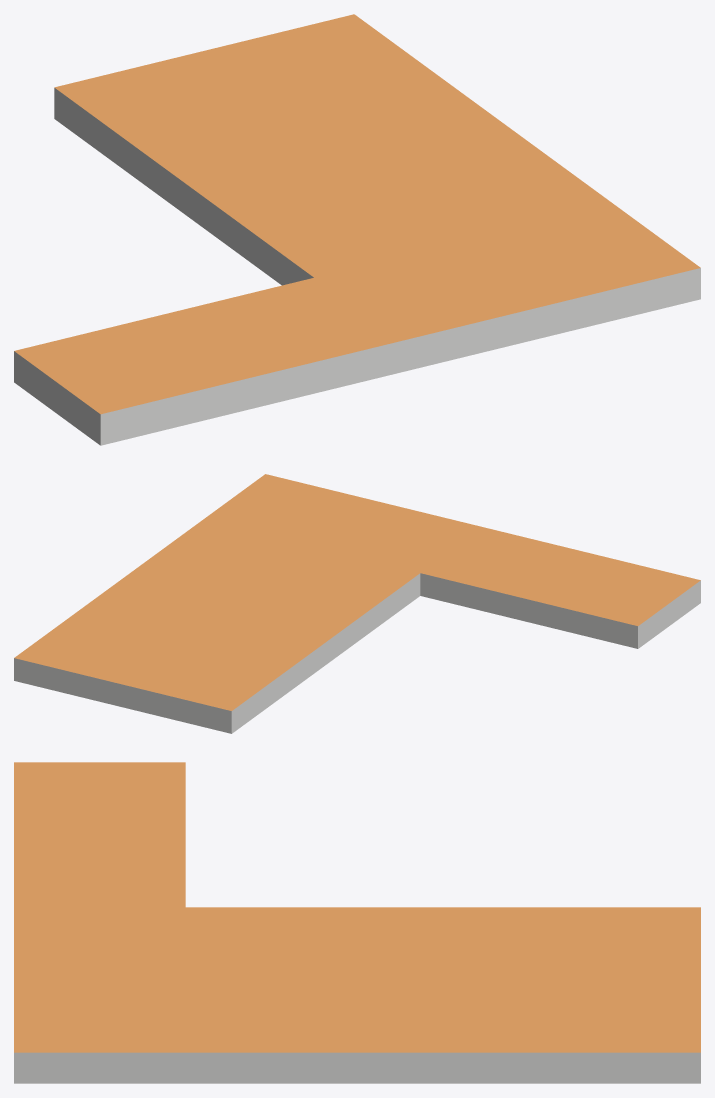
The model's file is laje_abertura_u.glb.
The picture shows the model from 3 angles, top to bottom: view 1: azimuth 30°, elevation 25°; view 2: azimuth 150°, elevation 25°; view 3: azimuth 270°, elevation 25°; orthographic projection. The views are drawn at different scales.
Visible parts, largest first — view 1: laje_abertura_u; view 2: laje_abertura_u; view 3: laje_abertura_u.
Part boxes in pixels (x1,y1,x2,y2): laje_abertura_u: (14,14,700,445); laje_abertura_u: (14,474,700,733); laje_abertura_u: (14,762,700,1083).
Size of the model in its own units: 4 by 0.2 by 4.
